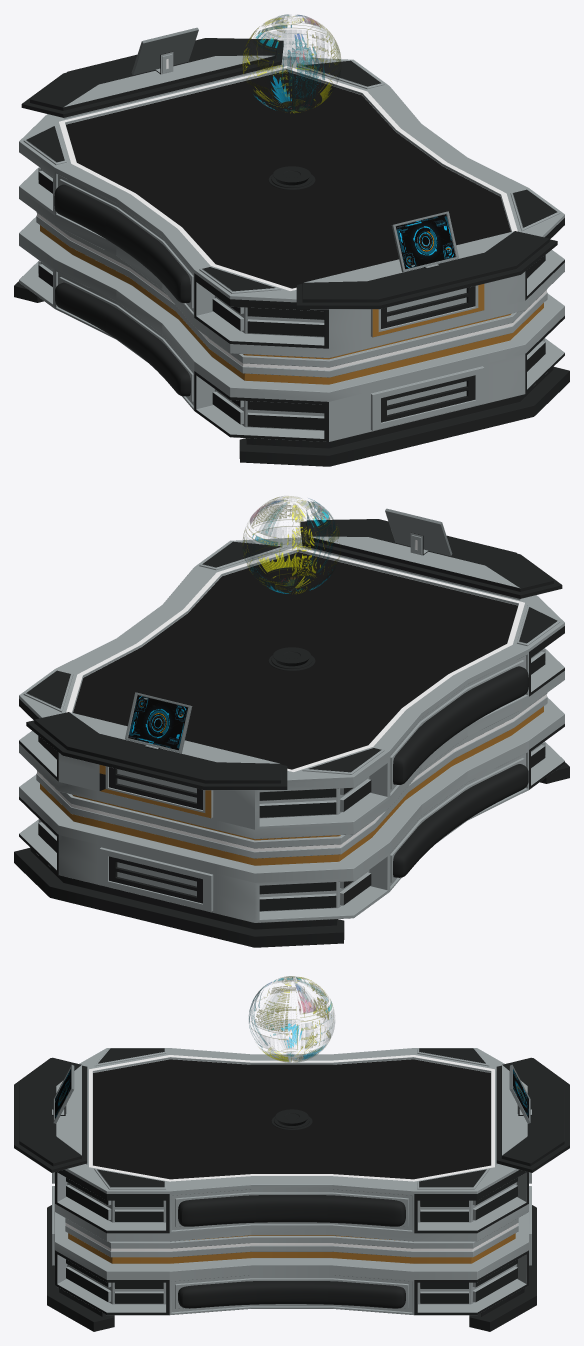
File: Sci Fi Table.obj
The picture shows the model from 3 angles, top to bottom: view 1: azimuth 30°, elevation 25°; view 2: azimuth 150°, elevation 25°; view 3: azimuth 270°, elevation 25°; orthographic projection. The views are drawn at different scales.
Parts seen in each view (by area): view 1: Table, Globe, Screen:A, Screen:B; view 2: Table, Globe, Screen:B, Screen:A; view 3: Table, Globe, Screen:A, Screen:B.
Part boxes in pixels (<box>): Table: <box>14,38,569,466</box>; Globe: <box>242,14,340,113</box>; Screen:A: <box>391,211,458,272</box>; Screen:B: <box>131,27,198,75</box>; Table: <box>14,519,569,947</box>; Globe: <box>242,496,340,593</box>; Screen:B: <box>125,692,192,753</box>; Screen:A: <box>385,508,452,556</box>; Table: <box>14,1048,569,1331</box>; Globe: <box>249,976,334,1062</box>; Screen:A: <box>53,1064,74,1123</box>; Screen:B: <box>509,1064,530,1123</box>.
Bounding box in the file's own units: 815 × 714 × 1278.
